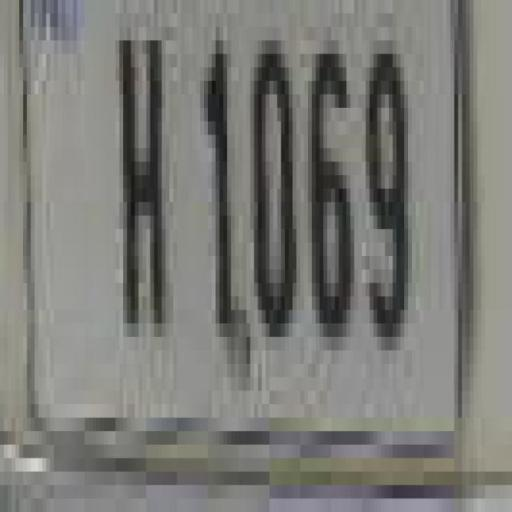number plate: (7, 0, 512, 471)
